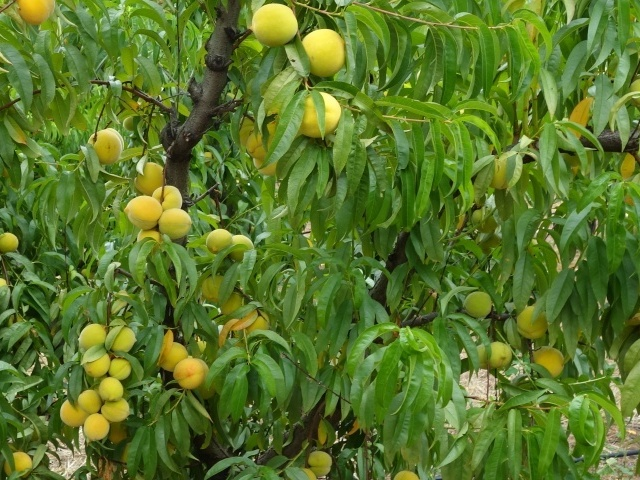peach: (300, 24, 348, 81), (249, 1, 301, 48), (297, 90, 345, 139), (83, 128, 127, 169), (123, 192, 165, 232), (529, 341, 568, 381), (9, 1, 63, 28), (172, 355, 212, 391), (155, 207, 193, 243), (516, 303, 549, 342), (74, 320, 109, 356), (135, 159, 167, 198), (246, 126, 277, 165), (149, 182, 183, 216), (248, 152, 286, 182), (103, 325, 137, 357), (240, 306, 274, 338), (80, 349, 113, 381), (485, 337, 516, 371), (158, 338, 188, 373), (463, 287, 494, 320), (1, 449, 35, 479), (197, 274, 228, 306), (205, 225, 235, 257), (58, 395, 87, 428), (98, 396, 131, 425), (304, 448, 335, 478), (80, 413, 111, 442), (103, 355, 133, 384), (96, 375, 126, 403), (229, 231, 255, 259), (74, 388, 103, 413), (1, 230, 22, 257)
